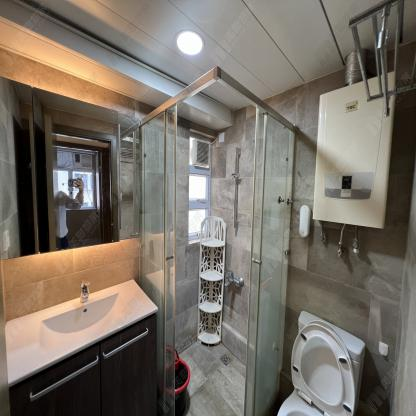Exhaust Fan: (193, 138, 211, 171)
Toilet: (276, 307, 366, 416)
Toilet Sink: (5, 279, 161, 386)
Water Heater: (313, 71, 394, 234)
